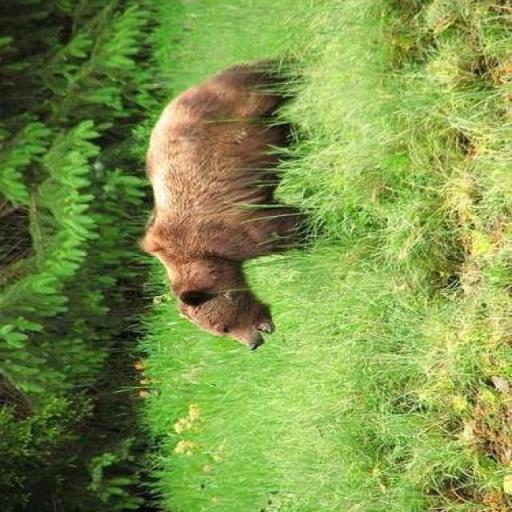Bear: (136, 56, 314, 350)
